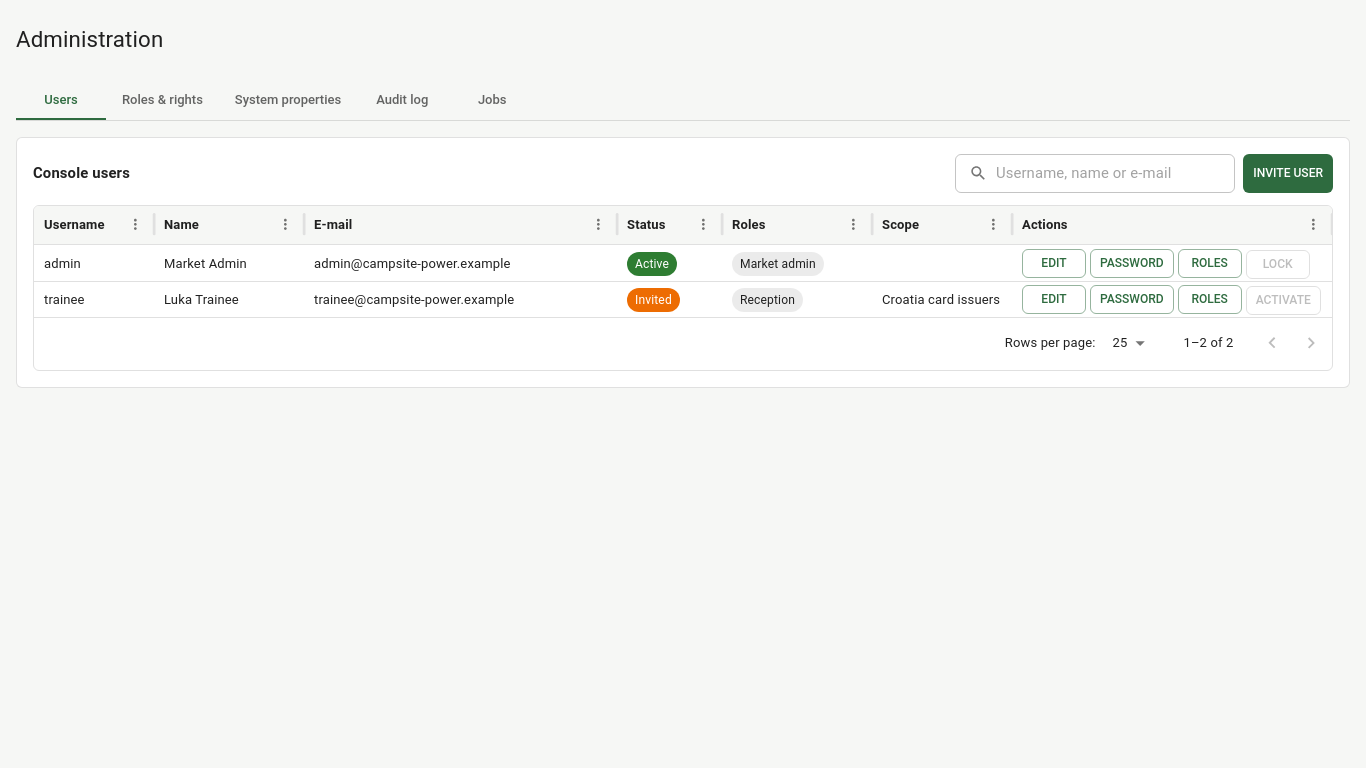
Test: administration tab › shows the rights matrix of the roles
Click the tab "Roles & rights". click: (162, 100)
box: 106,80 -> 219,120
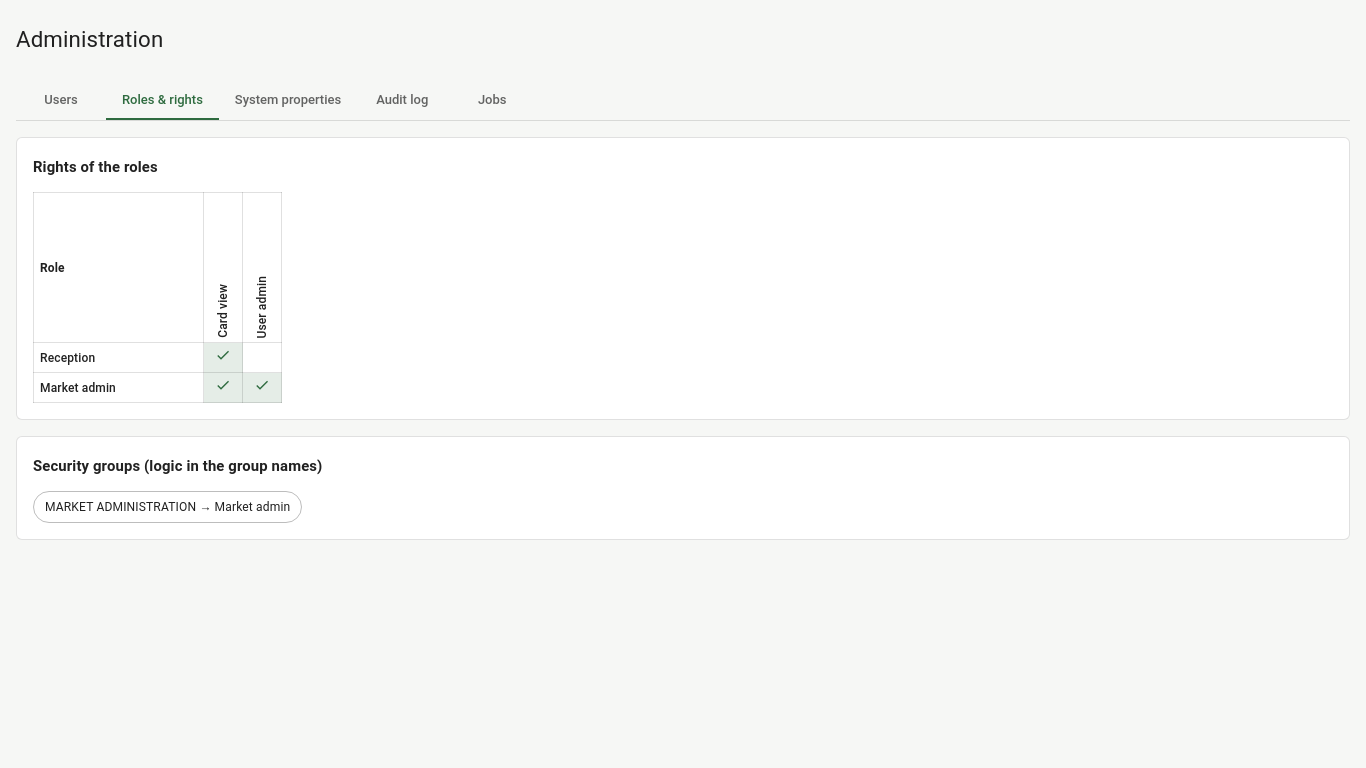
Now the cell with test id "held-MARKET_ADMIN-USER_ADMIN" is shown, box 242,373 -> 282,403
